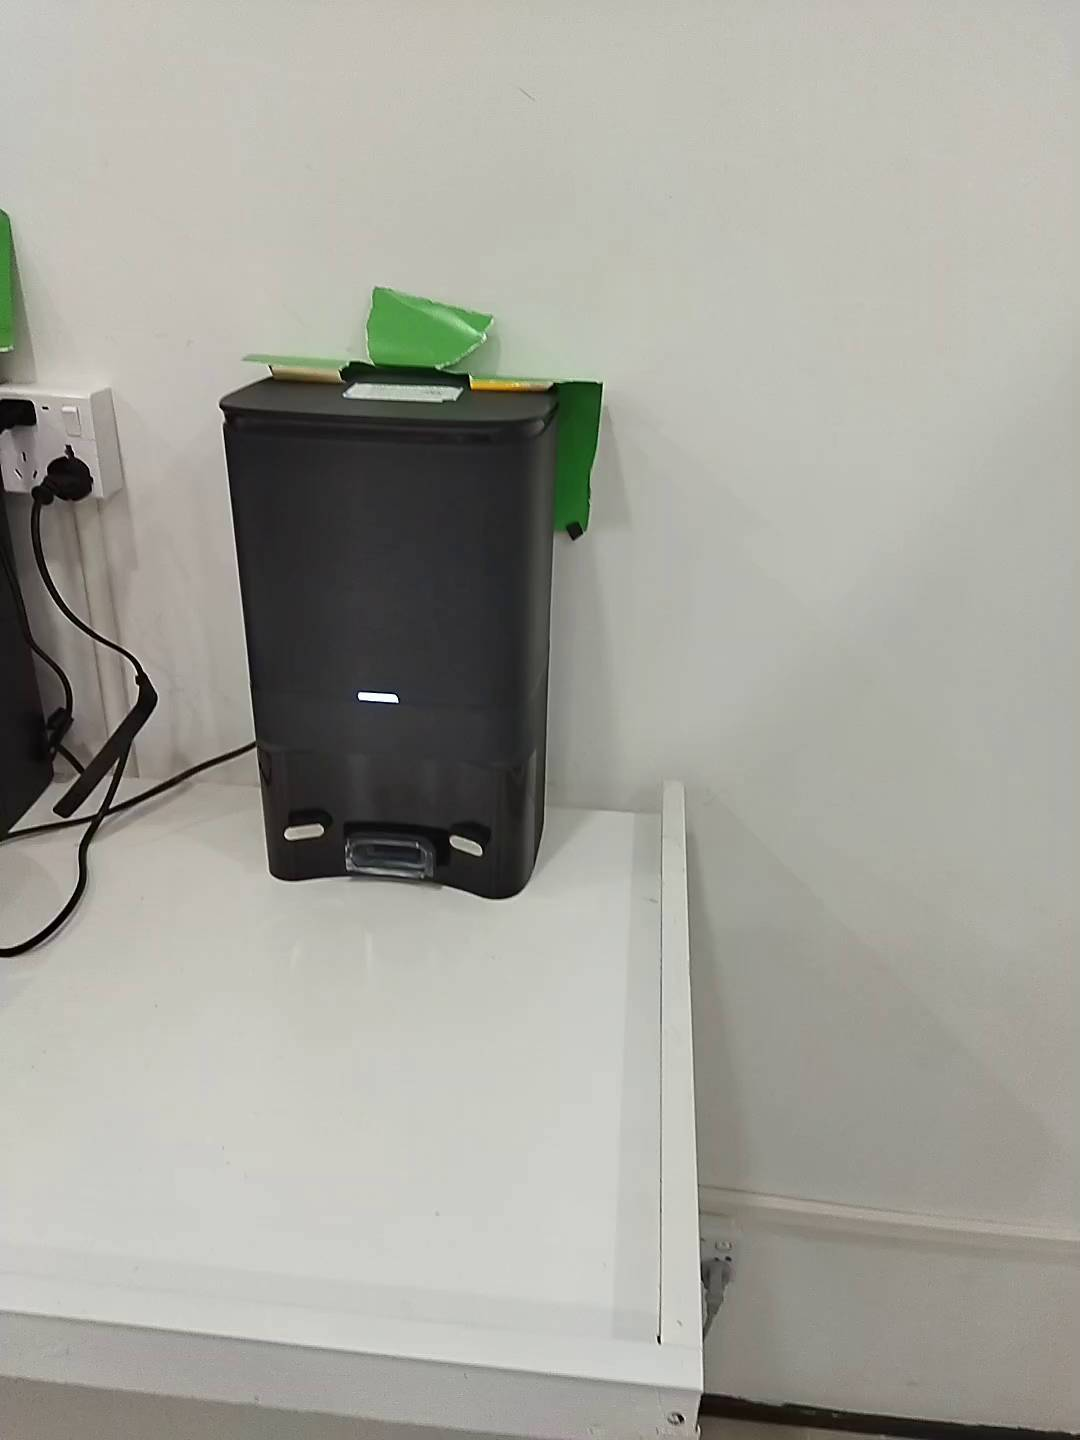dust collecting barrel: (219, 376, 557, 903)
